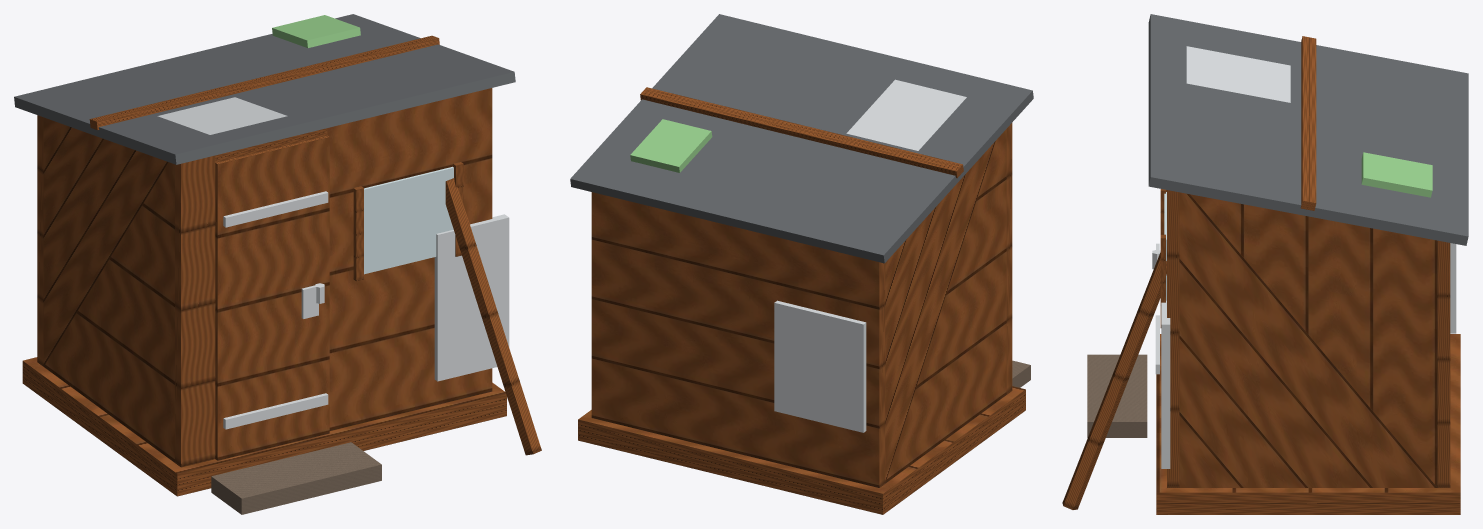
File: allotments-and-community-garden-allotment-shed-patched-a3ddb04d__35147.glb
The picture shows the model from 3 angles, left to right: view 1: azimuth 30°, elevation 25°; view 2: azimuth 150°, elevation 25°; view 3: azimuth 270°, elevation 25°; orthographic projection. The views are drawn at different scales.
Visible parts, largest first — view 1: allotment-shed-patched-timber, door/timber, allotment-shed-patched-charcoal, allotment-shed-patched-galv, allotment-shed-patched-glass, allotment-shed-patched-soil, door/galv, allotment-shed-patched-leaf; view 2: allotment-shed-patched-timber, allotment-shed-patched-charcoal, allotment-shed-patched-galv, allotment-shed-patched-leaf; view 3: allotment-shed-patched-timber, allotment-shed-patched-charcoal, allotment-shed-patched-galv, allotment-shed-patched-soil, allotment-shed-patched-leaf.
Boxes of the visible parts, box(x1,y1,x2,y2) form: allotment-shed-patched-timber: box(22, 35, 541, 496); door/timber: box(215, 135, 329, 460); allotment-shed-patched-charcoal: box(14, 14, 515, 164); allotment-shed-patched-galv: box(157, 97, 509, 381); allotment-shed-patched-glass: box(364, 166, 453, 274); allotment-shed-patched-soil: box(211, 442, 381, 514); door/galv: box(223, 191, 328, 429); allotment-shed-patched-leaf: box(272, 15, 360, 47); allotment-shed-patched-timber: box(578, 87, 1025, 514); allotment-shed-patched-charcoal: box(570, 14, 1033, 263); allotment-shed-patched-galv: box(774, 79, 966, 432); allotment-shed-patched-leaf: box(630, 119, 712, 172); allotment-shed-patched-timber: box(1062, 36, 1460, 514); allotment-shed-patched-charcoal: box(1148, 14, 1468, 245); allotment-shed-patched-galv: box(1161, 46, 1456, 468); allotment-shed-patched-soil: box(1087, 354, 1147, 437); allotment-shed-patched-leaf: box(1361, 152, 1432, 197).
Bounding box in the file's own units: 2.2 × 2.14 × 2.29.
Materials: 6 (2 with a texture image).
